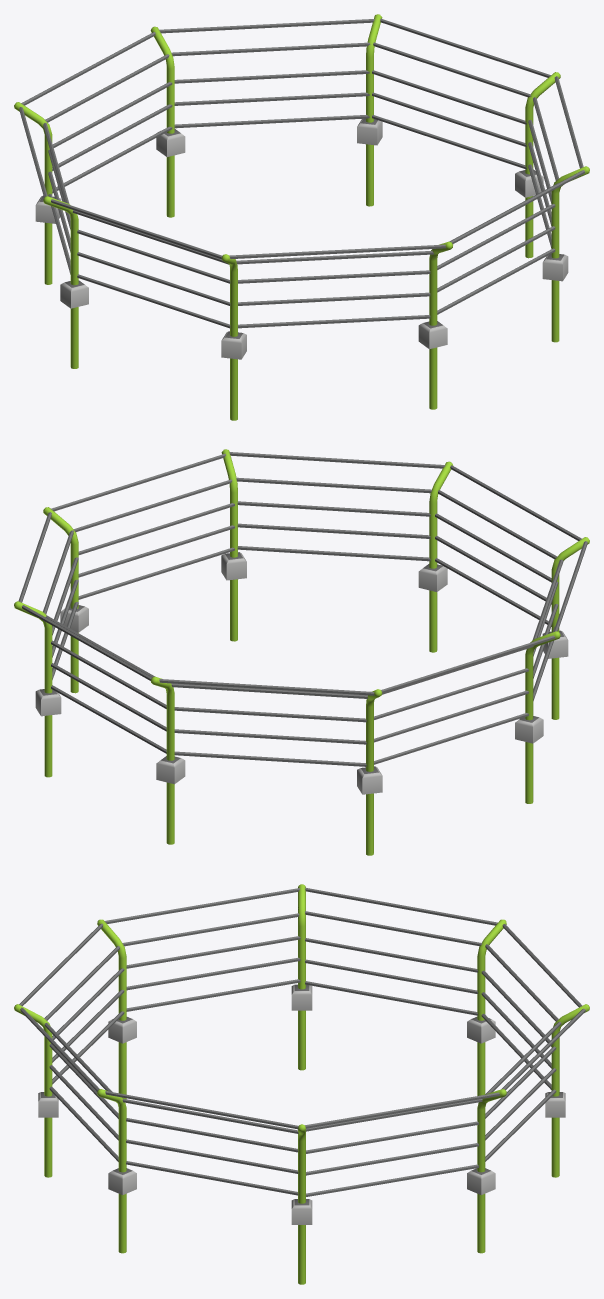
Rendered from MonsterCage.fbx.
The picture shows the model from 3 angles, top to bottom: view 1: azimuth 30°, elevation 25°; view 2: azimuth 150°, elevation 25°; view 3: azimuth 270°, elevation 25°; orthographic projection. The views are drawn at different scales.
Parts seen in each view (by area): view 1: Cylinder.001; view 2: Cylinder.001; view 3: Cylinder.001.
Boxes of the visible parts, <box> form: Cylinder.001: <box>14,14,589,420</box>; Cylinder.001: <box>14,449,589,855</box>; Cylinder.001: <box>14,884,589,1284</box>.
Size of the model in its own units: 7.27 by 2.39 by 7.27.
